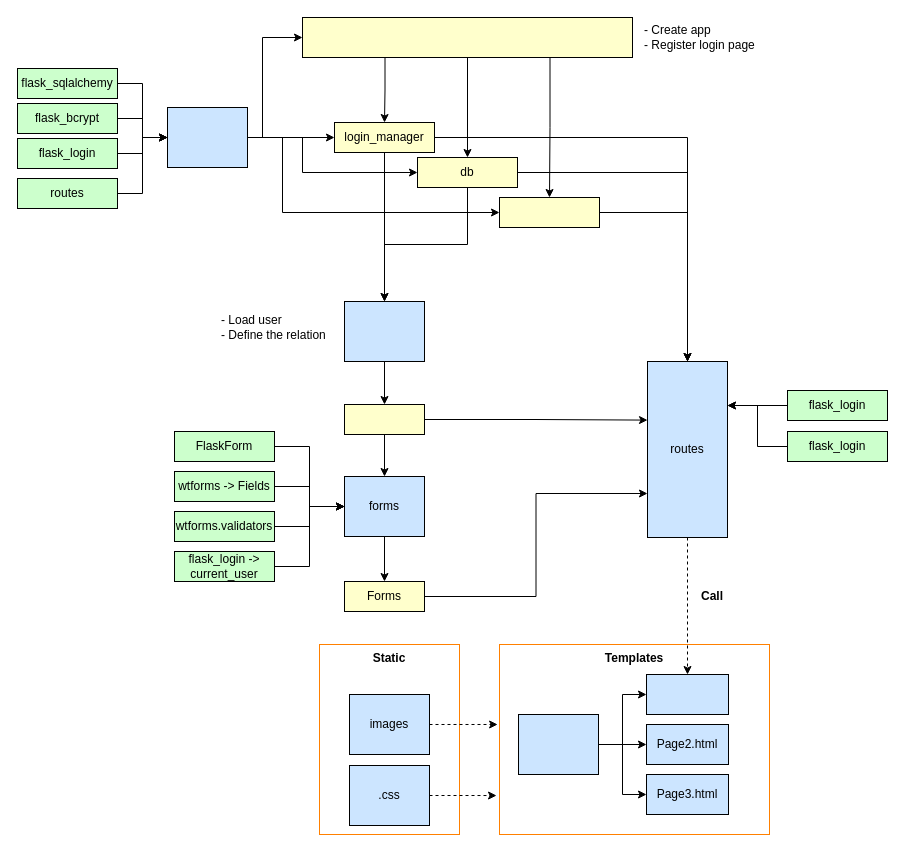
Some shapes in this 905 by 852 pixel diagram are drawn without their labels. The shapes that lost their labels are listed below. From the top down, each one's centre as x and y in pixels, then its label:
At pixel 467 37: "app".
At pixel 207 137: "__inti__".
At pixel 549 212: "bcrypt".
At pixel 384 331: "models".
At pixel 384 419: "Data Models".
At pixel 687 694: "Page1.html".
At pixel 558 744: "Layout".
